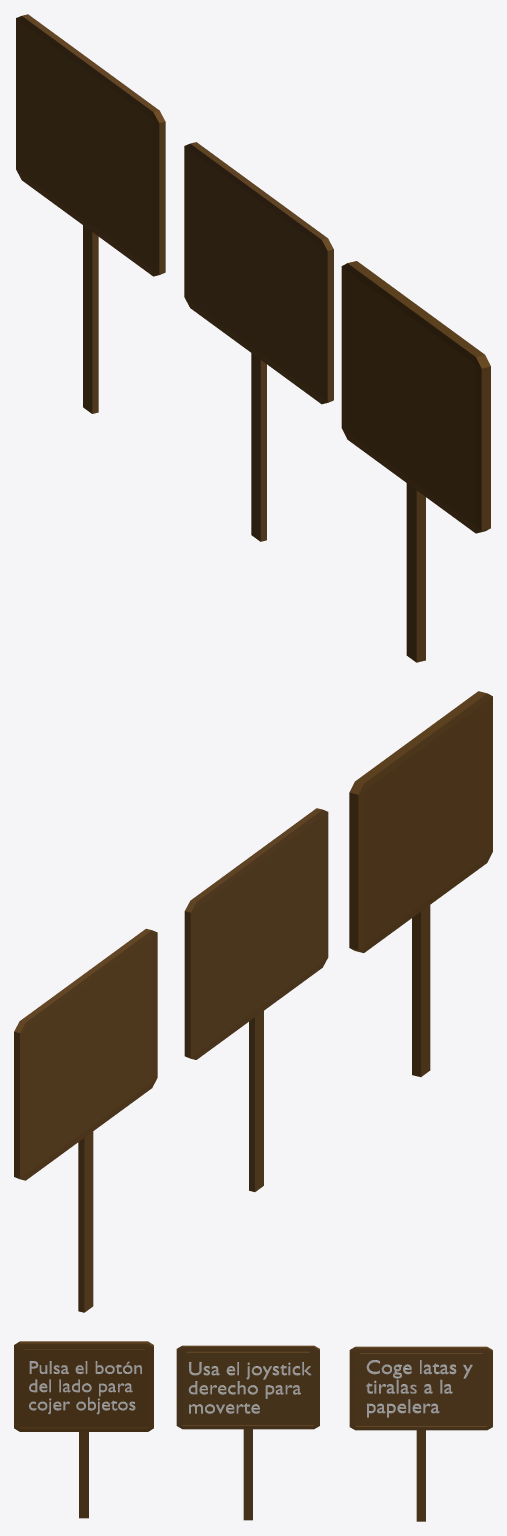
The model's file is Info.fbx.
3 views of the same model, one above another, from view 1: azimuth 30°, elevation 25°; view 2: azimuth 150°, elevation 25°; view 3: azimuth 270°, elevation 25° (orthographic). The views are drawn at different scales.
Parts seen in each view (by area): view 1: Cube, Text, Cube.001; view 2: Cube, Cube.001, Text; view 3: Cube, Cube.001, Text.
Part boxes in pixels (x1,y1,x2,y2): Cube: [341, 261, 490, 662]; Text: [184, 142, 333, 541]; Cube.001: [16, 14, 165, 413]; Cube: [349, 691, 492, 1076]; Cube.001: [14, 928, 157, 1312]; Text: [184, 808, 328, 1191]; Cube: [14, 1341, 153, 1518]; Cube.001: [349, 1346, 492, 1521]; Text: [176, 1345, 319, 1520].
Size of the model in its own units: 7.82 by 114 by 281.
